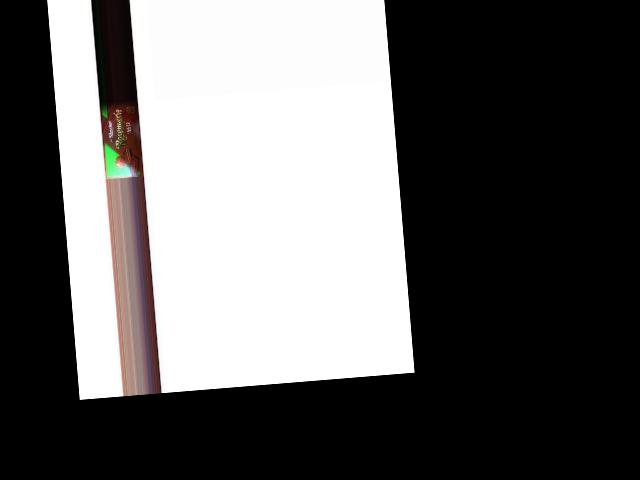chocolate: (100, 98, 143, 178)
